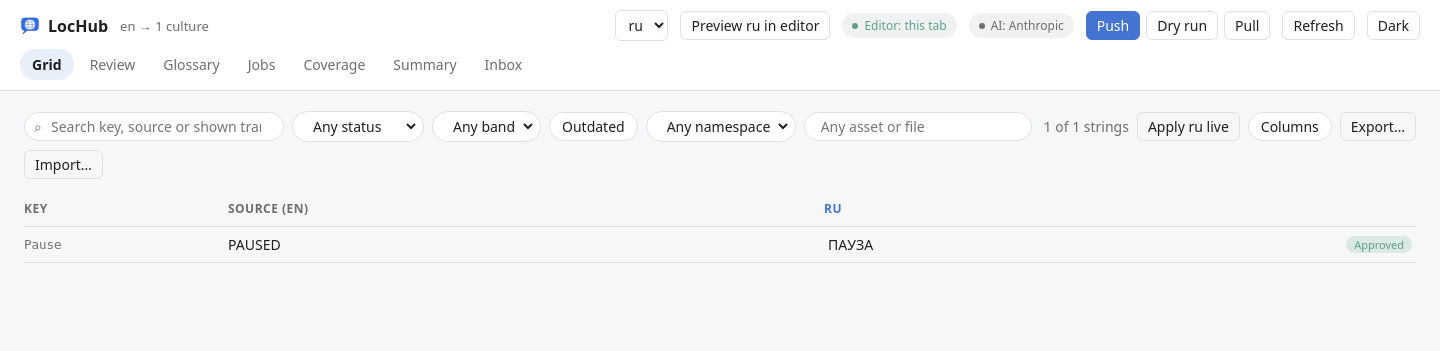
Scenario: App › sync (Push / Dry run / Pull) › shows a failed outcome, including one from a thrown error, as failed
Check: the text "ПАУЗА" is shown, box [828, 235, 873, 254]
Click the button "Pull".
click(1247, 26)  # box [1224, 11, 1270, 40]
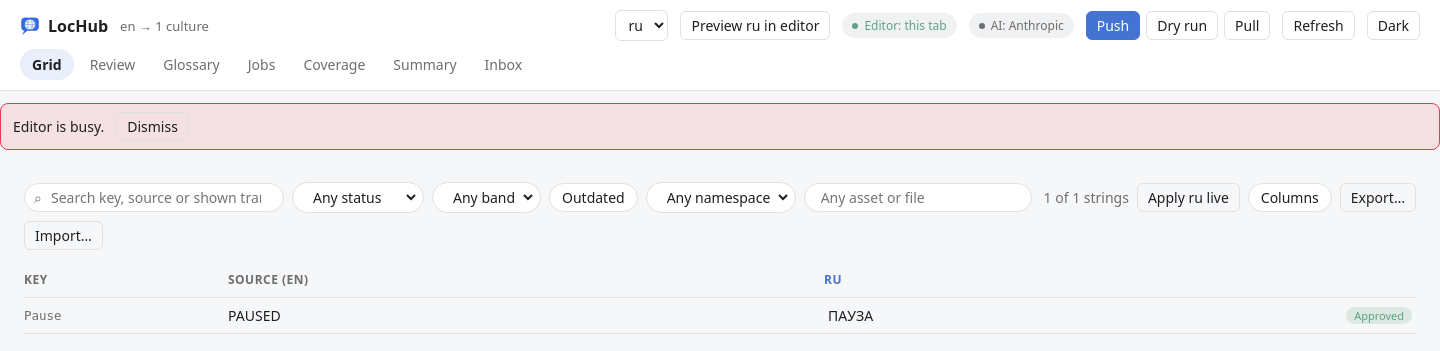
Check: the message "Editor is busy. Dismiss" is shown, box [0, 103, 1439, 150]
Check: the text "Editor is busy." is shown, box [13, 117, 104, 136]
